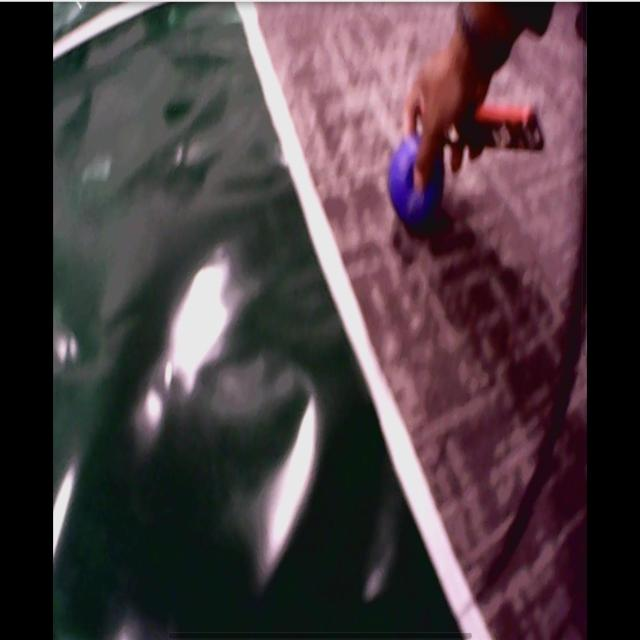ball: (390, 135, 444, 229)
